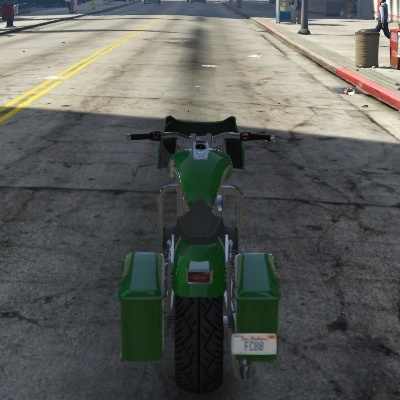off: (181, 255, 218, 293)
